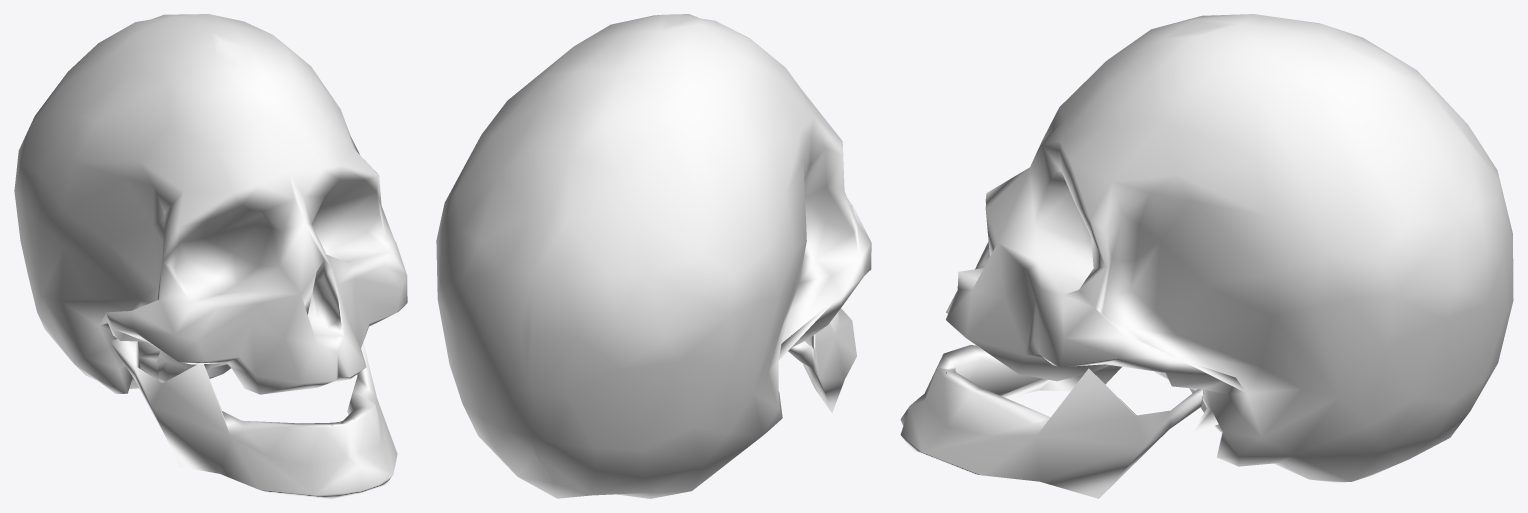
File: SM_skull.fbx
The picture shows the model from 3 angles, left to right: view 1: azimuth 30°, elevation 25°; view 2: azimuth 150°, elevation 25°; view 3: azimuth 270°, elevation 25°; orthographic projection. The views are drawn at different scales.
Parts seen in each view (by area): view 1: SM_skull; view 2: SM_skull; view 3: SM_skull.
Part boxes in pixels (<box>): SM_skull: <box>14,14,407,498</box>; SM_skull: <box>436,14,871,498</box>; SM_skull: <box>900,14,1513,498</box>.
Size of the model in its own units: 24.99 by 31.41 by 40.84.
Materials: 1 (1 with a texture image).
